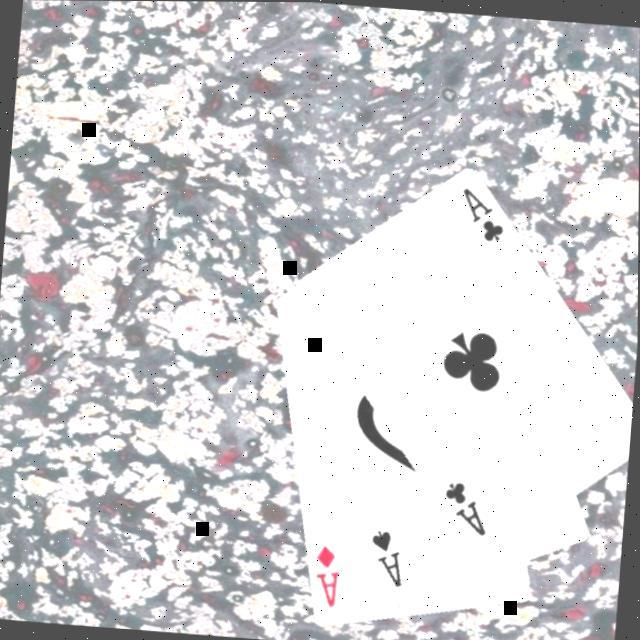AC: (436, 477, 492, 540), (453, 185, 509, 246)
AD: (307, 541, 344, 611)
AS: (362, 526, 407, 591)
